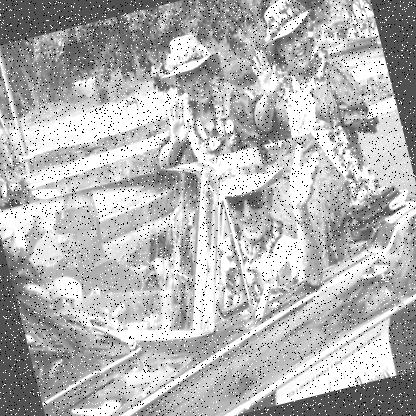Car: (0, 111, 415, 415)
